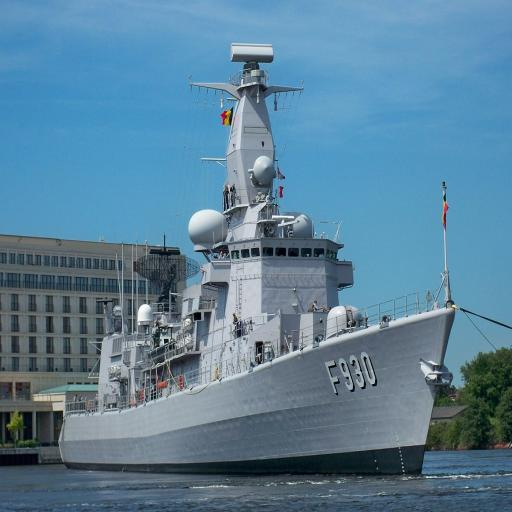Fragata: (1, 34, 306, 486)
